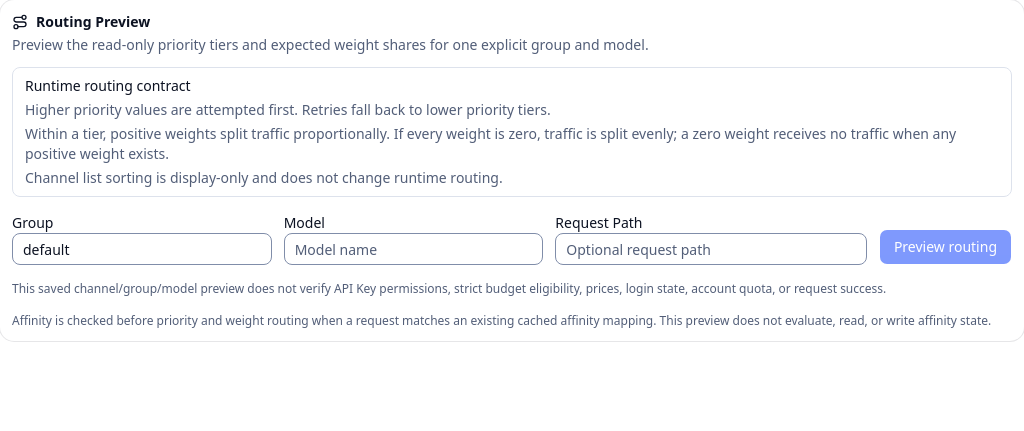
Test: channel routing preview › shows a no-match result after a successful preview response
In the field named "Routing preview model": [413, 249] box x1=284 y1=233 x2=543 y2=265, type "missing-model"
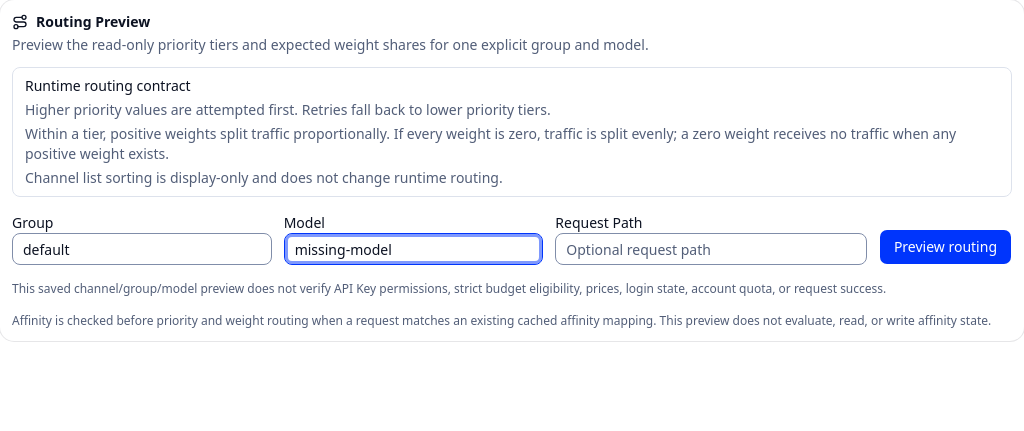
Click the button "Preview routing": [945, 247] box x1=879 y1=229 x2=1012 y2=265
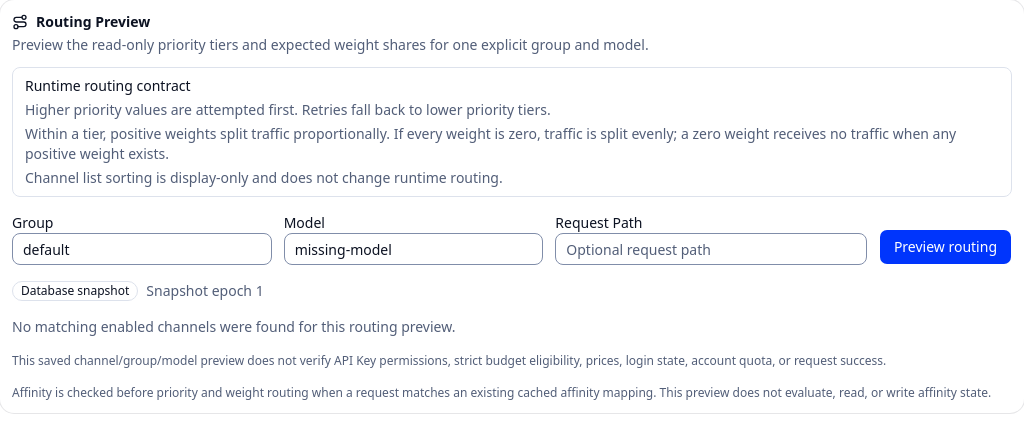
Now the text "No matching enabled channels were found for this routing preview." is shown, box x1=12 y1=317 x2=455 y2=336
